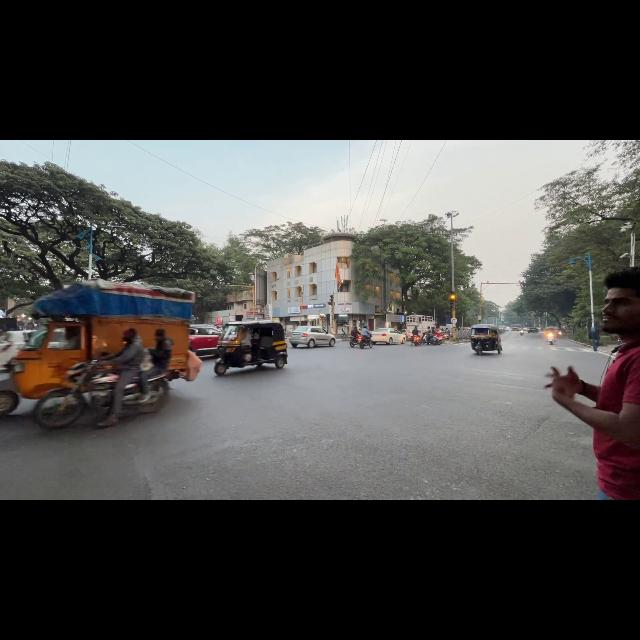car: (0, 330, 34, 371), (289, 326, 335, 347), (189, 327, 221, 357), (372, 328, 406, 344), (527, 328, 538, 332)
motorcycle: (33, 361, 118, 428), (358, 335, 372, 348), (425, 334, 442, 344), (546, 332, 556, 344), (349, 335, 358, 347), (412, 335, 421, 346), (520, 330, 524, 336)
